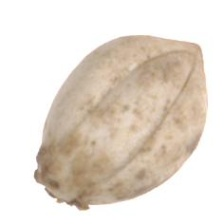L1: (32, 169, 90, 210), (158, 36, 206, 75)
L2: (33, 35, 208, 210)
